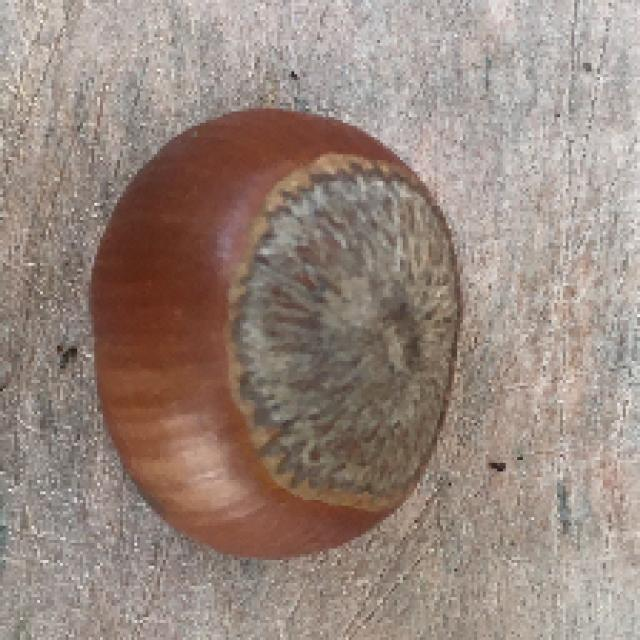DamagedHazelnut: (91, 102, 467, 560)
